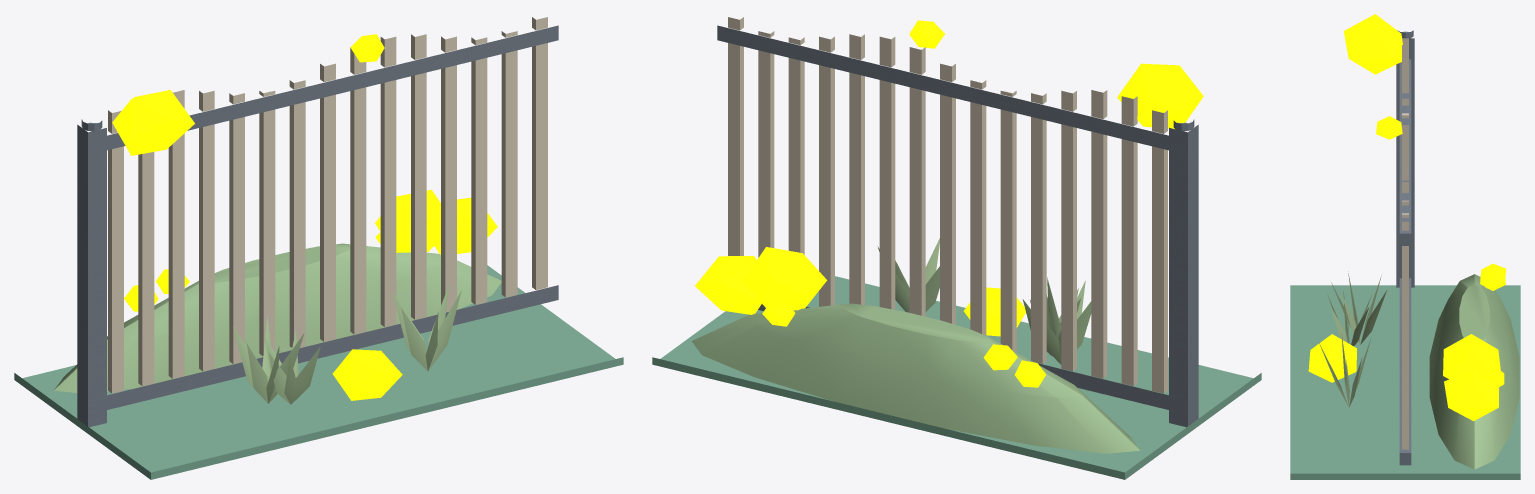
File: v2_panel.glb
3 renders of one model, left to right at view 1: azimuth 30°, elevation 25°; view 2: azimuth 150°, elevation 25°; view 3: azimuth 270°, elevation 25°, orthographic. The views are drawn at different scales.
Visible parts, largest first — view 1: Infill, Safety_Pad, Terrain, Rails, Foliage, Posts, Grass_Tufts, Infill_Wave; view 2: Infill, Terrain, Safety_Pad, Foliage, Posts, Rails, Infill_Wave, Grass_Tufts; view 3: Safety_Pad, Terrain, Foliage, Rails, Grass_Tufts, Posts, Infill, Infill_Wave.
Part boxes in pixels (x1,y1,x2,y2): Infill: (108, 43, 547, 393); Safety_Pad: (14, 265, 623, 479); Terrain: (54, 243, 501, 392); Rails: (107, 25, 558, 409); Foliage: (112, 34, 497, 400); Posts: (77, 124, 106, 427); Grass_Tufts: (233, 284, 461, 404); Infill_Wave: (108, 17, 547, 133); Infill: (728, 43, 1167, 393); Terrain: (691, 303, 1139, 453); Safety_Pad: (652, 276, 1261, 479); Foliage: (695, 20, 1203, 387); Posts: (1169, 124, 1198, 427); Rails: (717, 25, 1168, 409); Infill_Wave: (728, 17, 1167, 133); Grass_Tufts: (877, 238, 1091, 364); Safety_Pad: (1290, 285, 1520, 479); Terrain: (1429, 274, 1519, 469); Foliage: (1308, 14, 1506, 421); Rails: (1399, 59, 1411, 465); Grass_Tufts: (1319, 271, 1386, 407); Posts: (1396, 38, 1414, 287); Infill: (1402, 246, 1408, 449); Infill_Wave: (1402, 38, 1408, 230).
Size of what is drawn, in the model's own units: 2 by 1.36 by 1.
6 materials, 1 textured.
